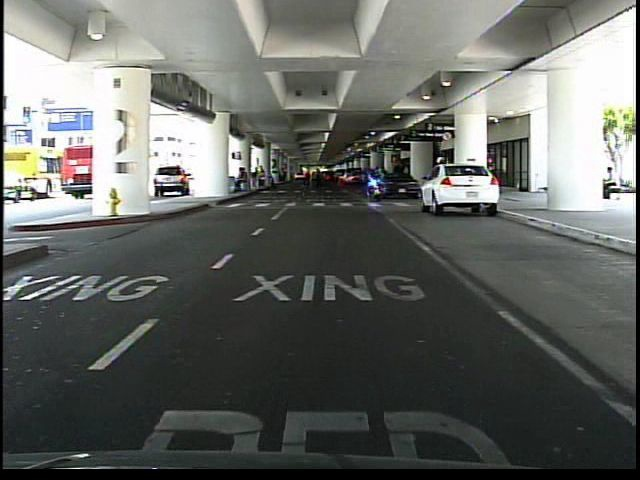person: (595, 164, 623, 201), (432, 152, 449, 210)
